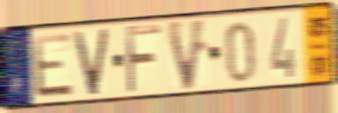0: (222, 19, 259, 84)
4: (270, 16, 297, 80)
E: (30, 30, 75, 101)
F: (123, 23, 164, 97)
V: (164, 17, 209, 94), (72, 26, 112, 99)
